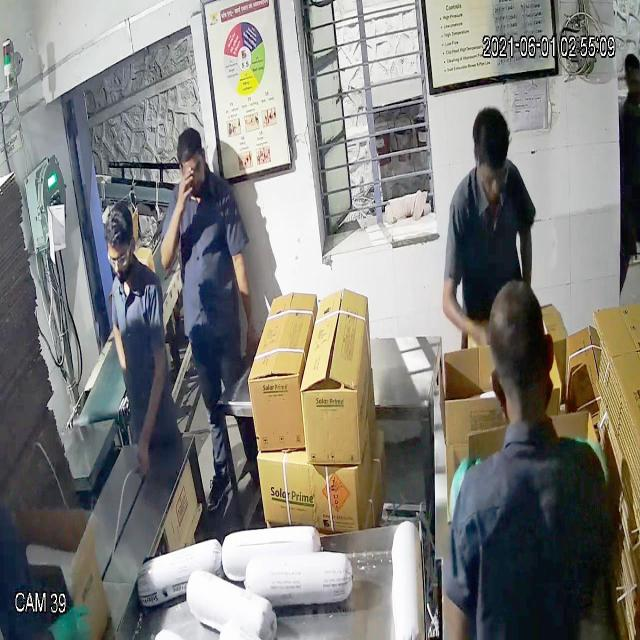glasses: (101, 242, 139, 278)
